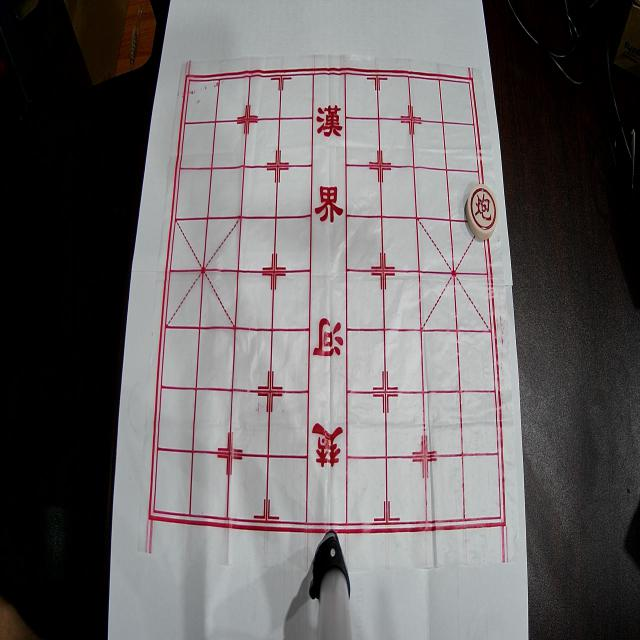red-cannon: (466, 184, 498, 239)
